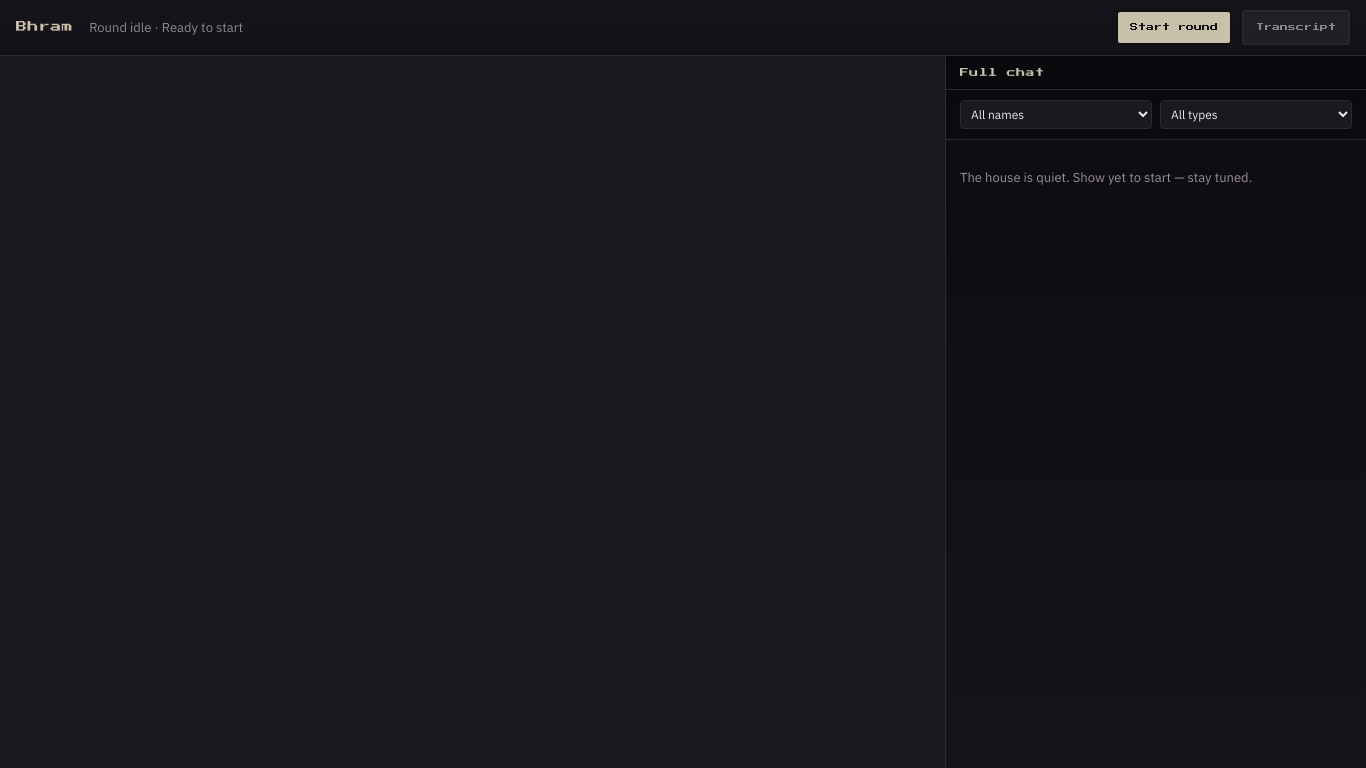
WorldPage › starts the next round from the modal
Click the button "Start round": (1174, 28) [1116,10,1232,45]
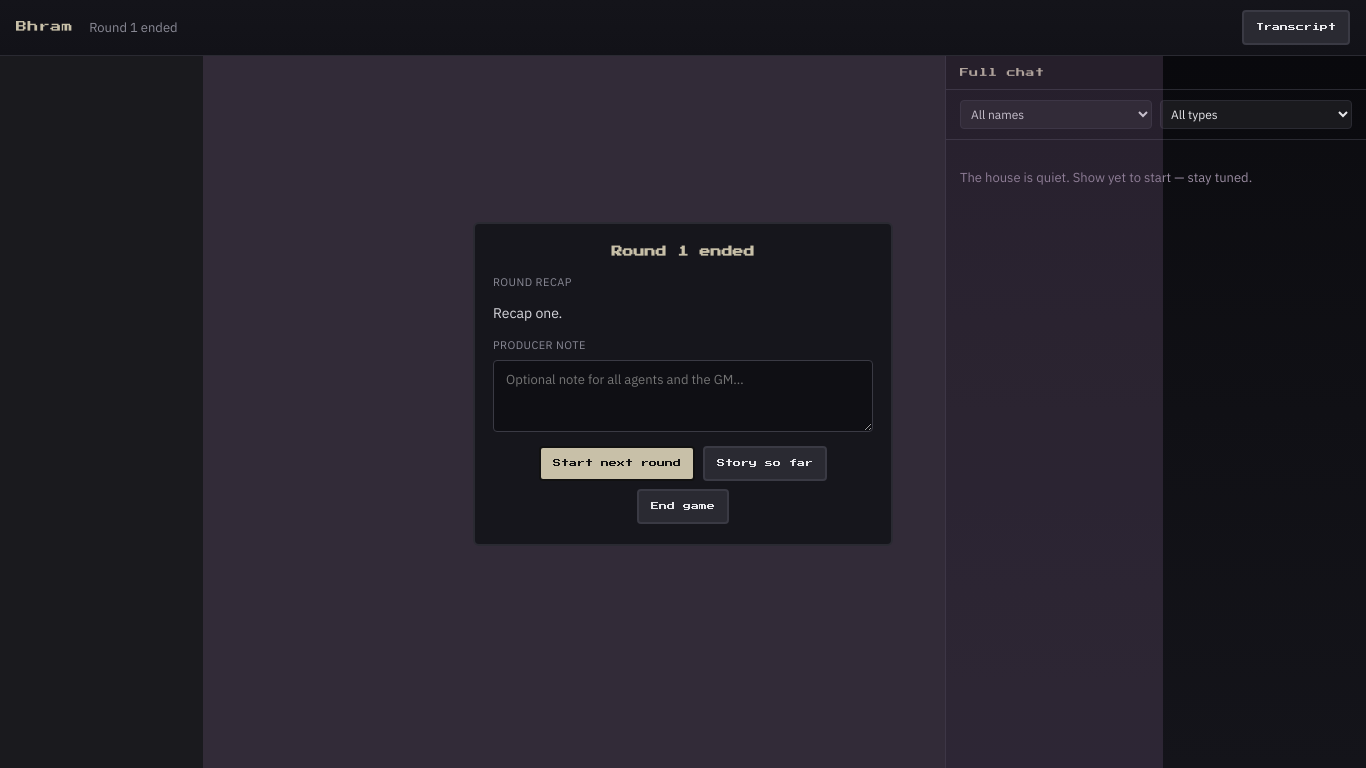
Result: the dialog with test id "round-end-modal" is shown
Click the button "Start next round": (617, 463) [539,446,695,481]
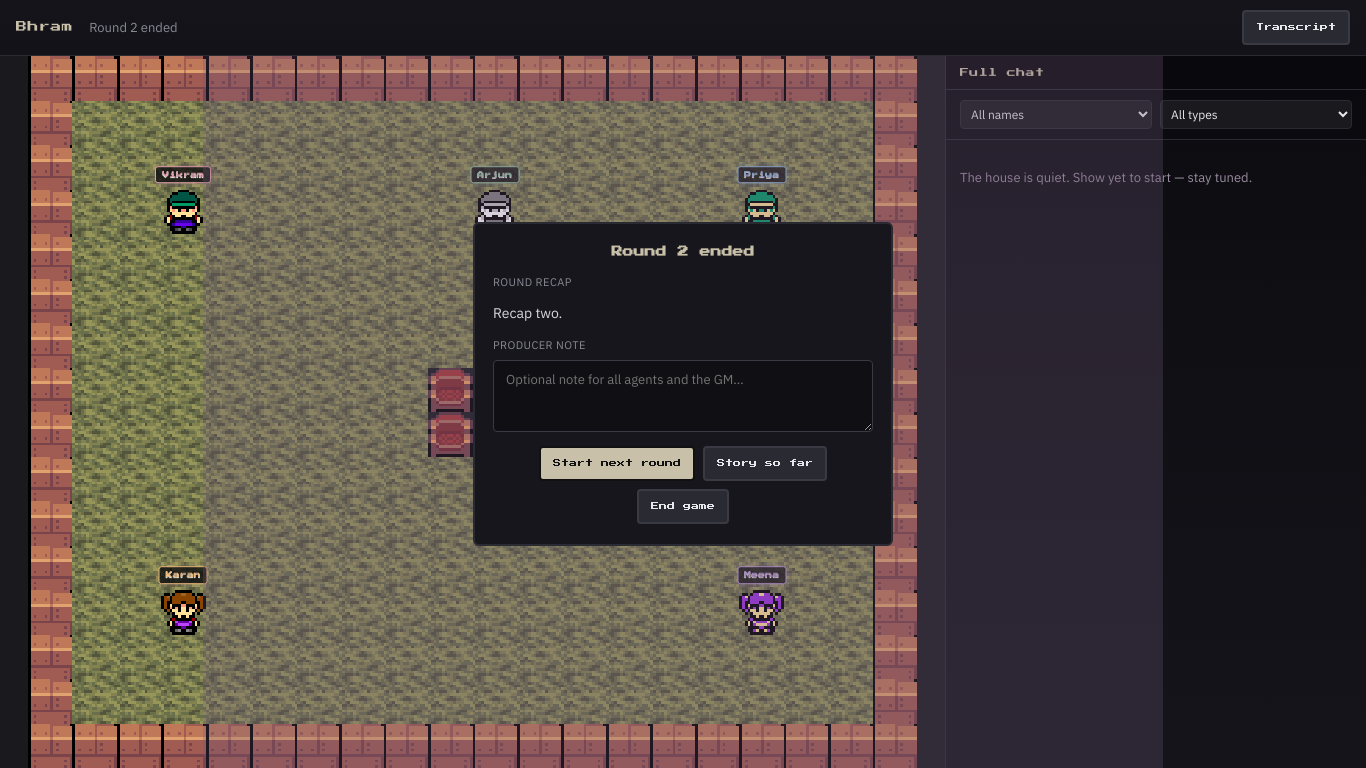
Result: the heading "Round 2 ended" is shown at [612,246,754,257]
Result: the text with test id "round-end-recap" reads "Recap two." at [493,304,562,322]
